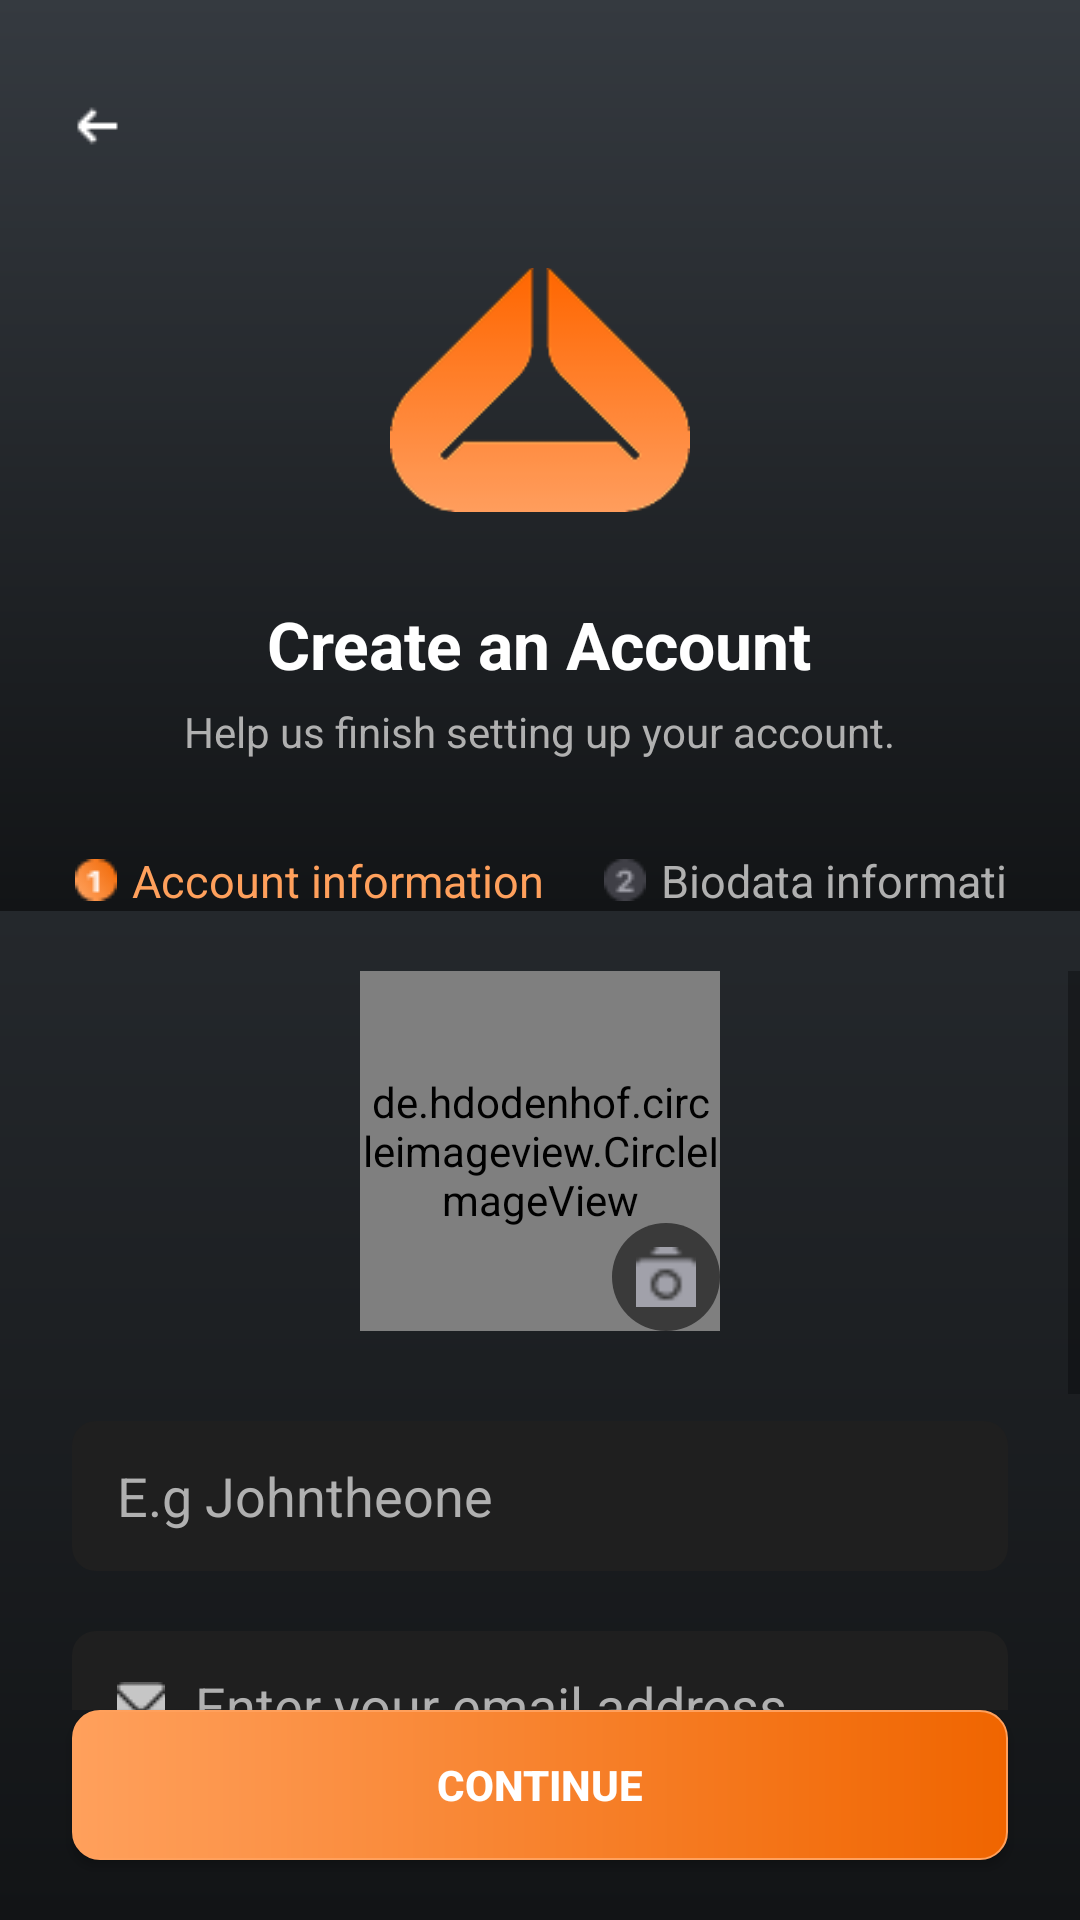

Icons on this 1080*1920 Android screen, each with the point to tap as [x,y]:
Add photo: [666,1277]
Back: [97,125]
